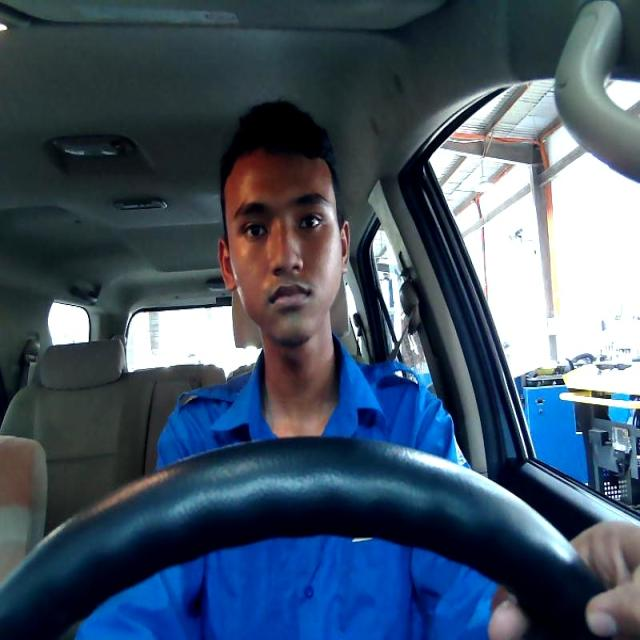focused: (215, 154, 350, 346)
